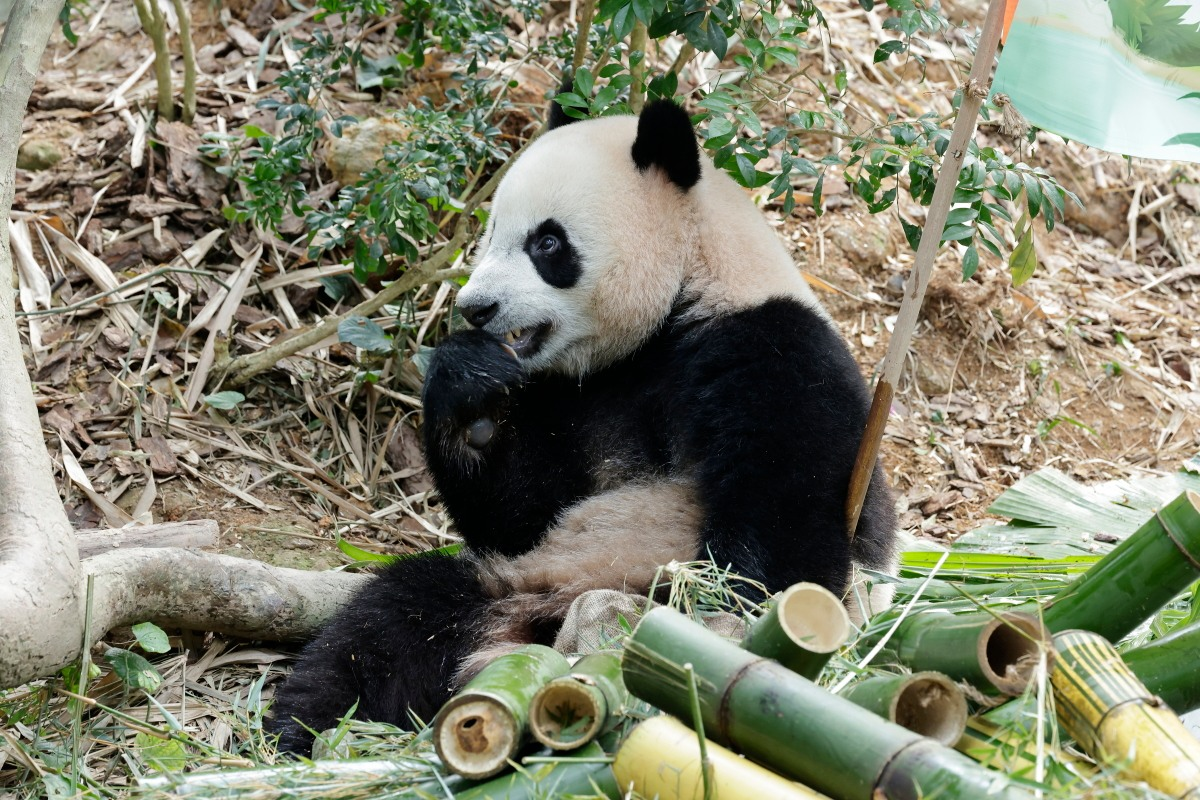Giant panda: (450, 91, 705, 383)
